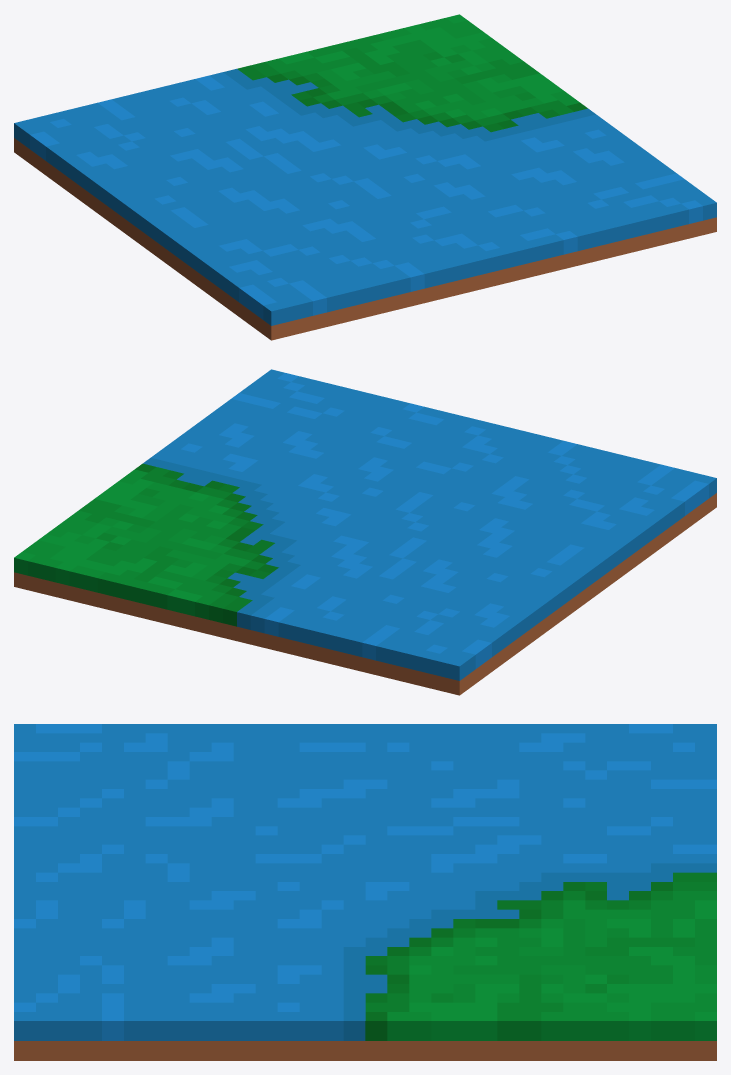
Rendered from forest-water-rounded-edge-outer-2.obj.
3 renders of one model, top to bottom at view 1: azimuth 30°, elevation 25°; view 2: azimuth 150°, elevation 25°; view 3: azimuth 270°, elevation 25°, orthographic. The views are drawn at different scales.
Bounding box in the file's own units: 3.2 × 0.2 × 3.2.
